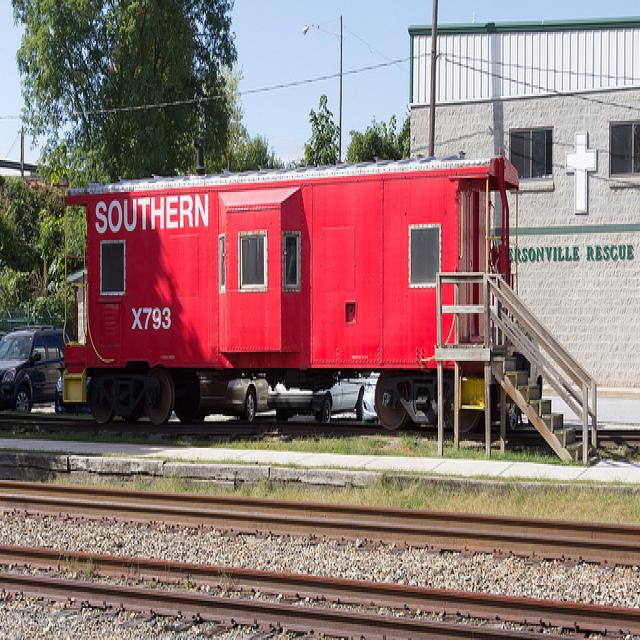Vehicle: (0, 328, 70, 420), (264, 377, 366, 427), (198, 373, 274, 426)
